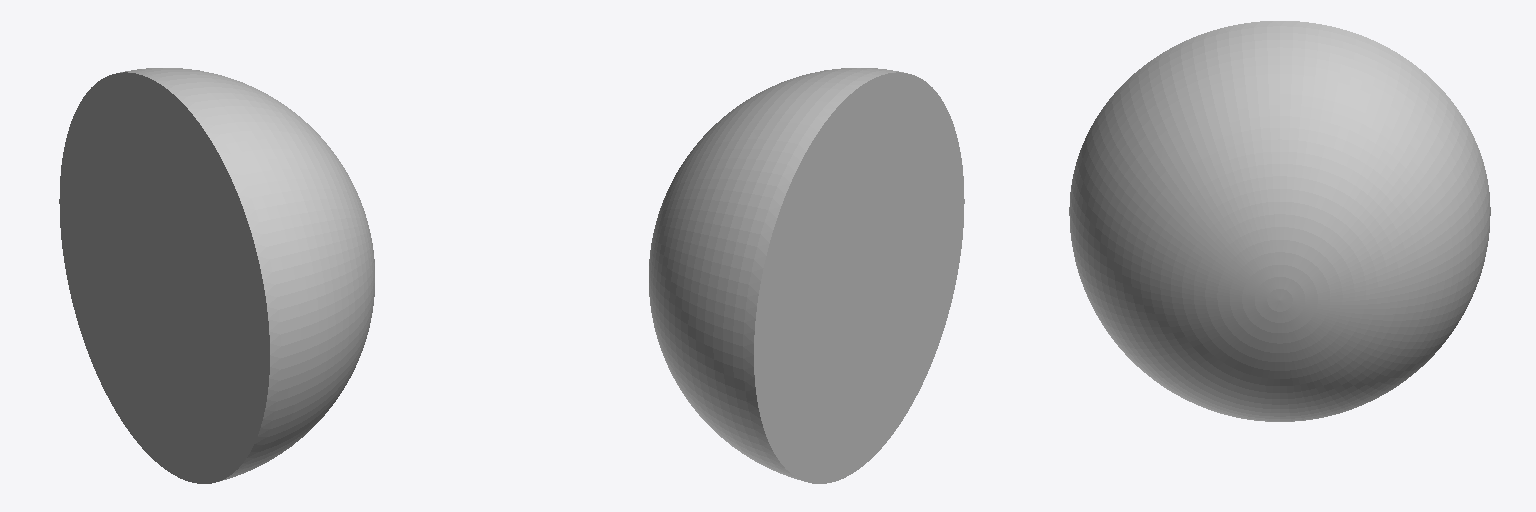
The model's file is half_blue.obj.
The picture shows the model from 3 angles: view 1: azimuth 30°, elevation 25°; view 2: azimuth 150°, elevation 25°; view 3: azimuth 270°, elevation 25°; orthographic projection.
Visible parts, largest first — view 1: Body1; view 2: Body1; view 3: Body1.
Part boxes in pixels (x1,y1,x2,y2): Body1: (59, 68, 374, 483); Body1: (649, 68, 964, 483); Body1: (1069, 21, 1490, 421).
Bounding box in the file's own units: 2.5 × 5 × 5.